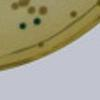Blue_green: (17, 19, 27, 31), (32, 16, 42, 27)
brown: (27, 5, 37, 16), (68, 9, 78, 19), (39, 5, 48, 16), (9, 2, 19, 11), (18, 0, 30, 7)
